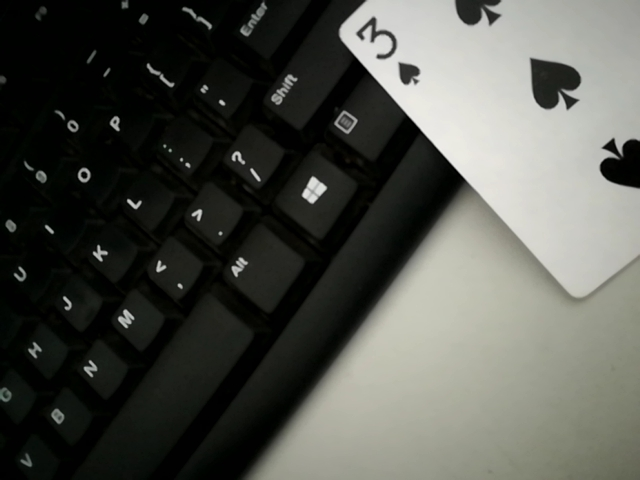ht 3: (324, 3, 638, 298)
